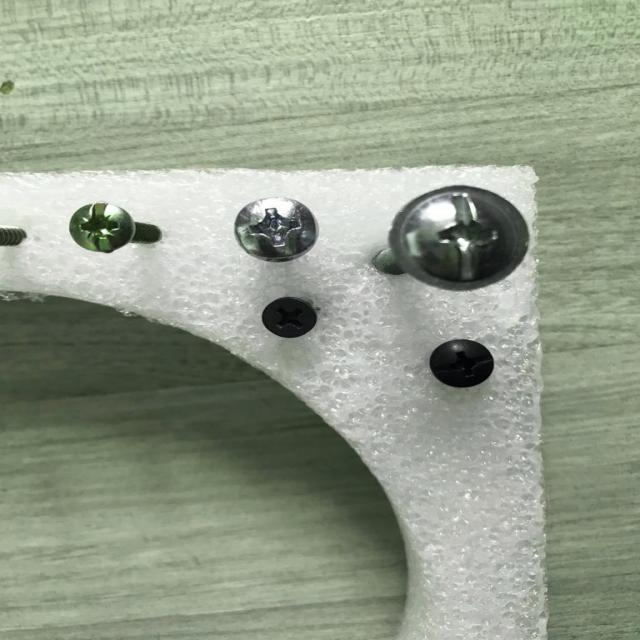PhillipsScrewHead: (388, 185, 531, 290), (234, 196, 318, 259), (68, 202, 132, 252), (430, 340, 495, 388), (260, 298, 318, 338)
